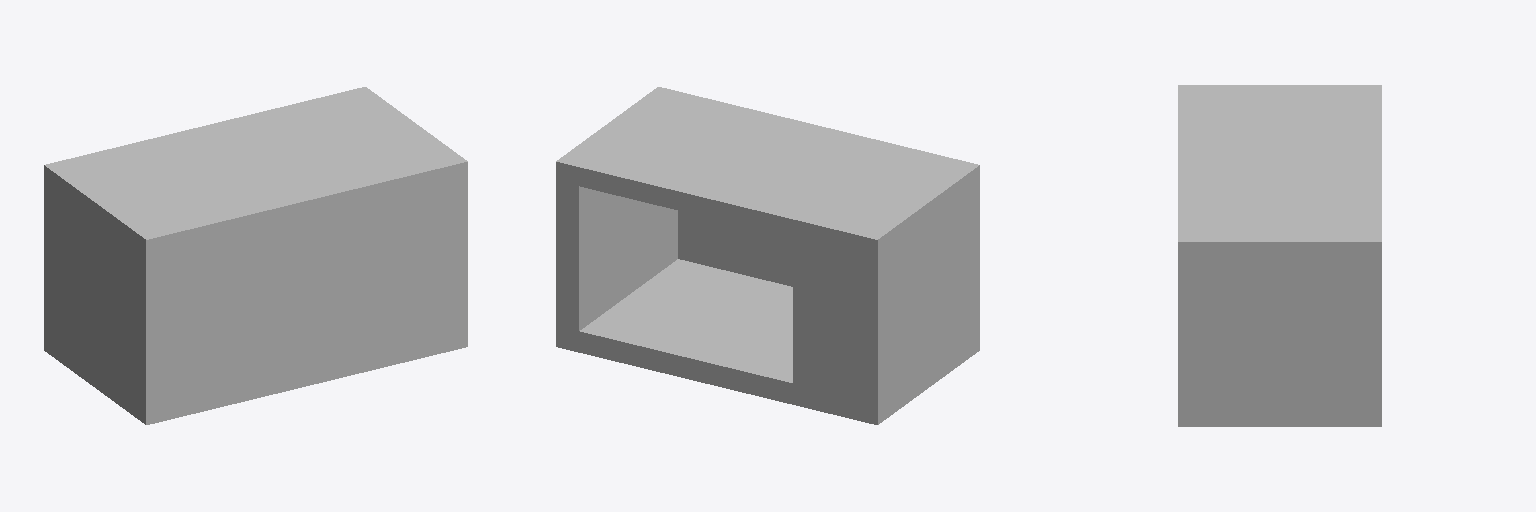
Rendered from microwave.obj.
3 views of the same model, side by side, from view 1: azimuth 30°, elevation 25°; view 2: azimuth 150°, elevation 25°; view 3: azimuth 270°, elevation 25° (orthographic).
Visible parts, largest first — view 1: pCube39; view 2: pCube39; view 3: pCube39.
Part boxes in pixels (left/top/right/bottom): pCube39: left=44, top=87, right=467, bottom=424; pCube39: left=556, top=87, right=979, bottom=424; pCube39: left=1178, top=85, right=1381, bottom=426.
Size of the model in its own units: 0.626 by 0.3449 by 0.3455.